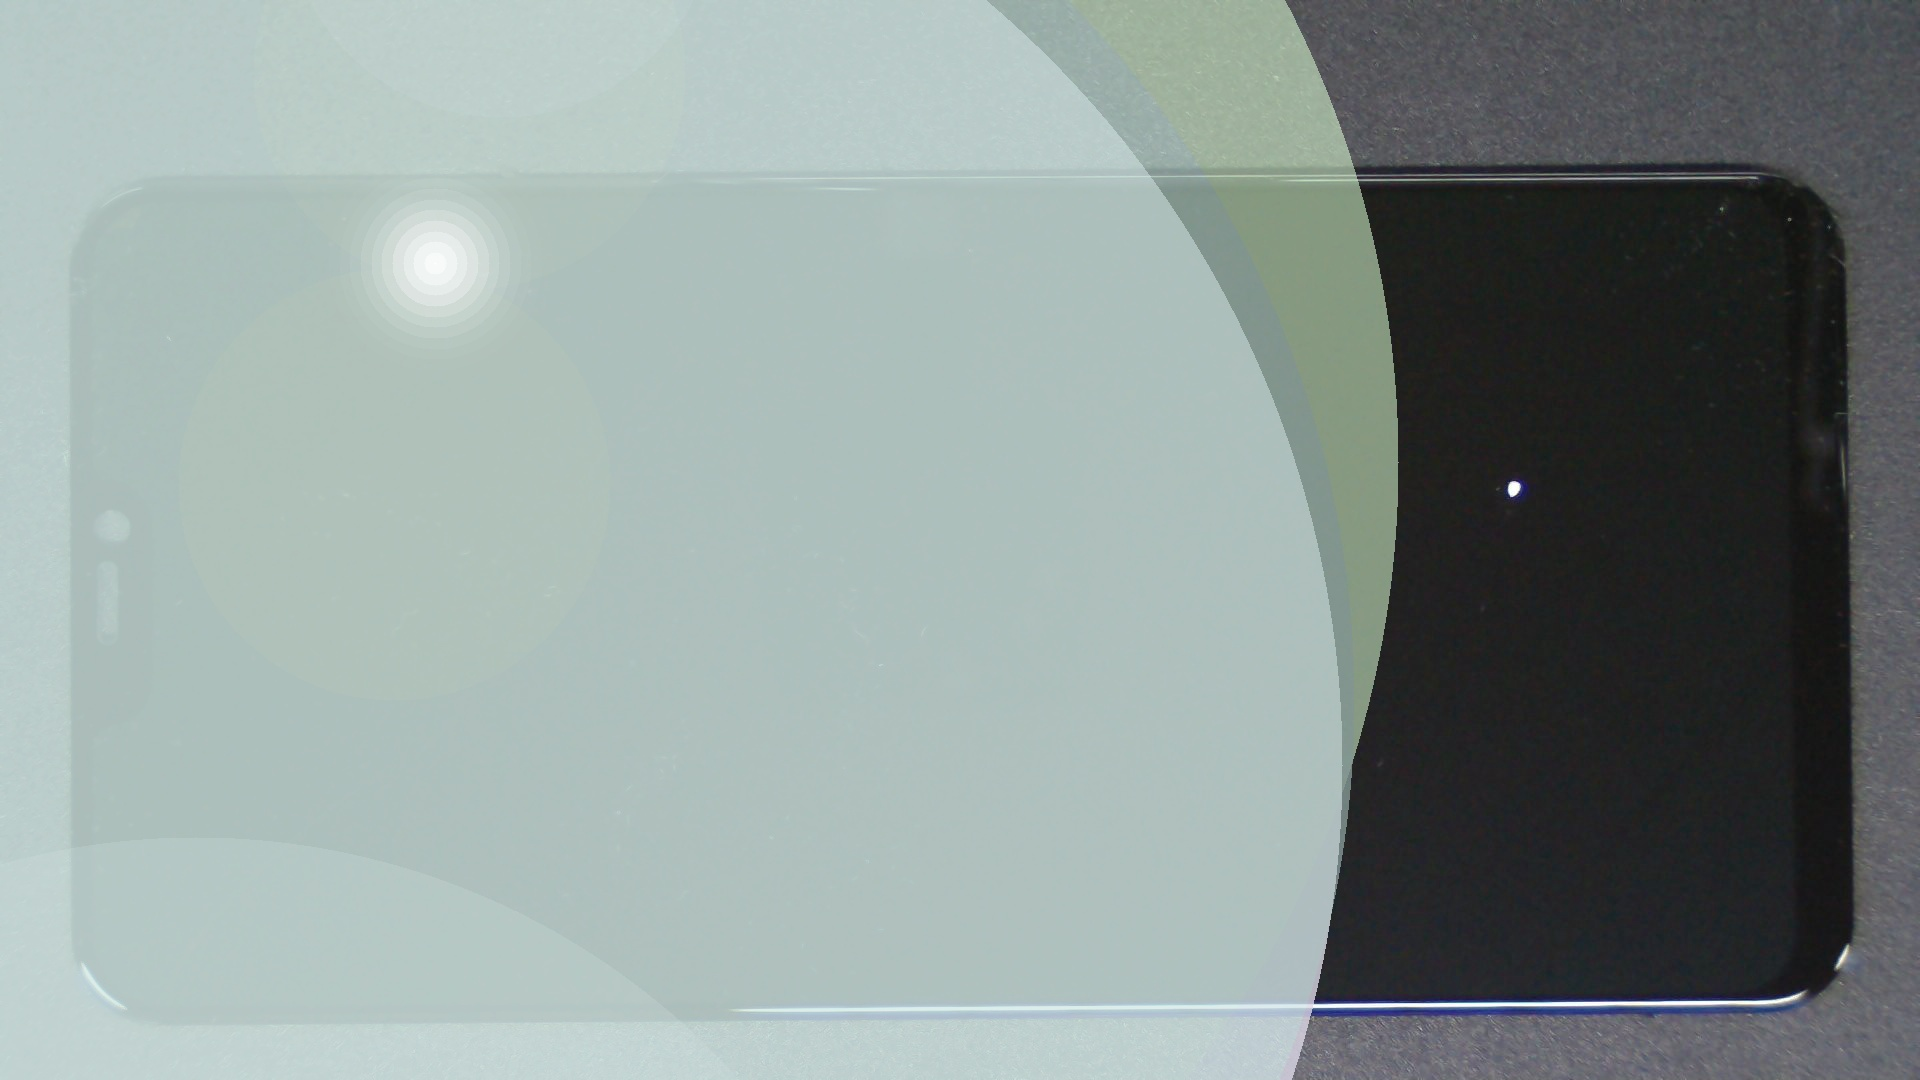oil: (758, 239, 1920, 719)
